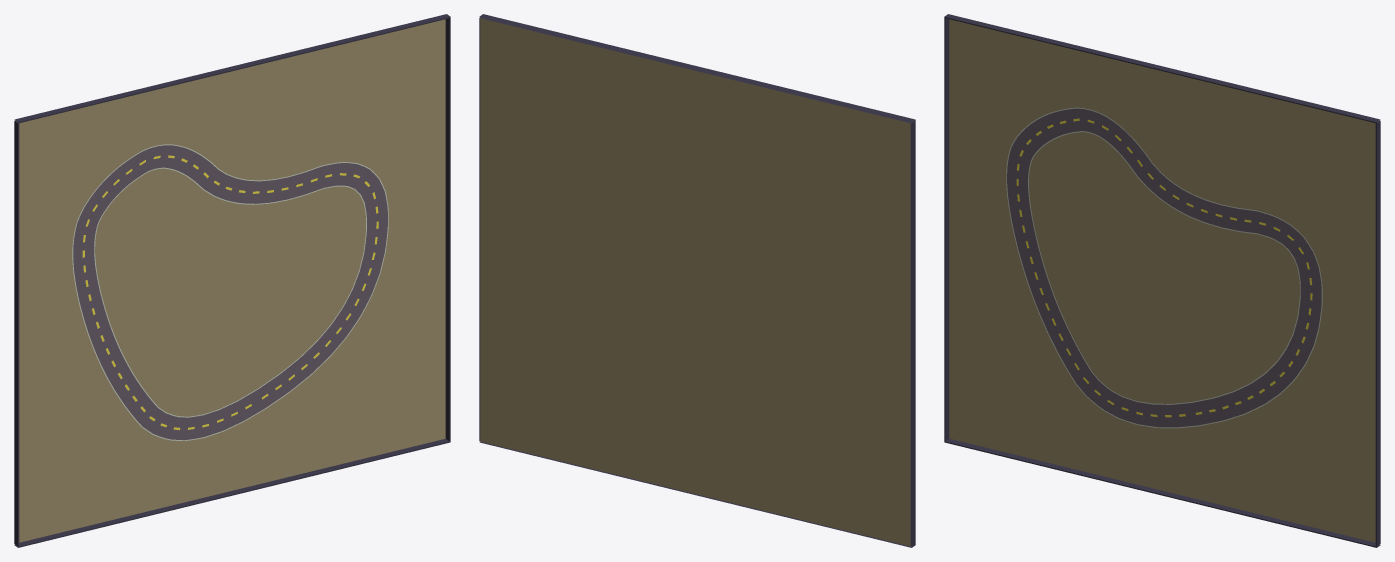
Rendered from track.obj.
3 renders of one model, left to right at view 1: azimuth 30°, elevation 25°; view 2: azimuth 150°, elevation 25°; view 3: azimuth 330°, elevation 25°, orthographic.
Size of the model in its own units: 19.29 by 18.14 by 0.3.
